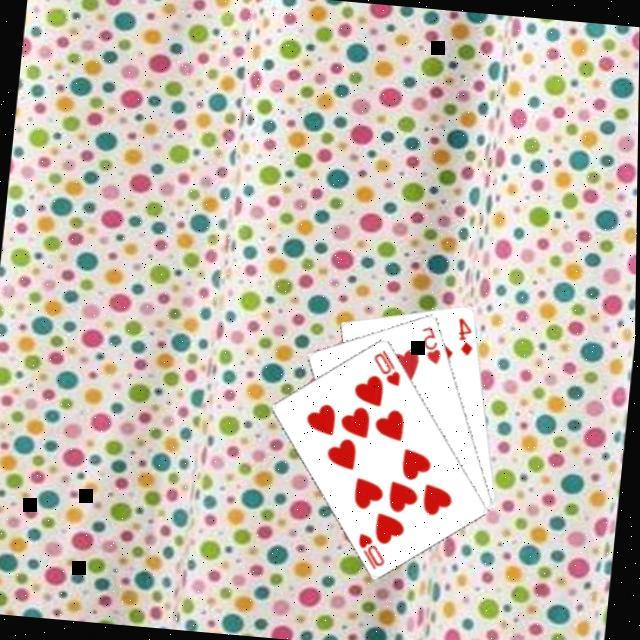10H: (355, 528, 393, 571), (371, 344, 408, 388)
4D: (454, 312, 482, 358)
5H: (418, 322, 450, 366)
